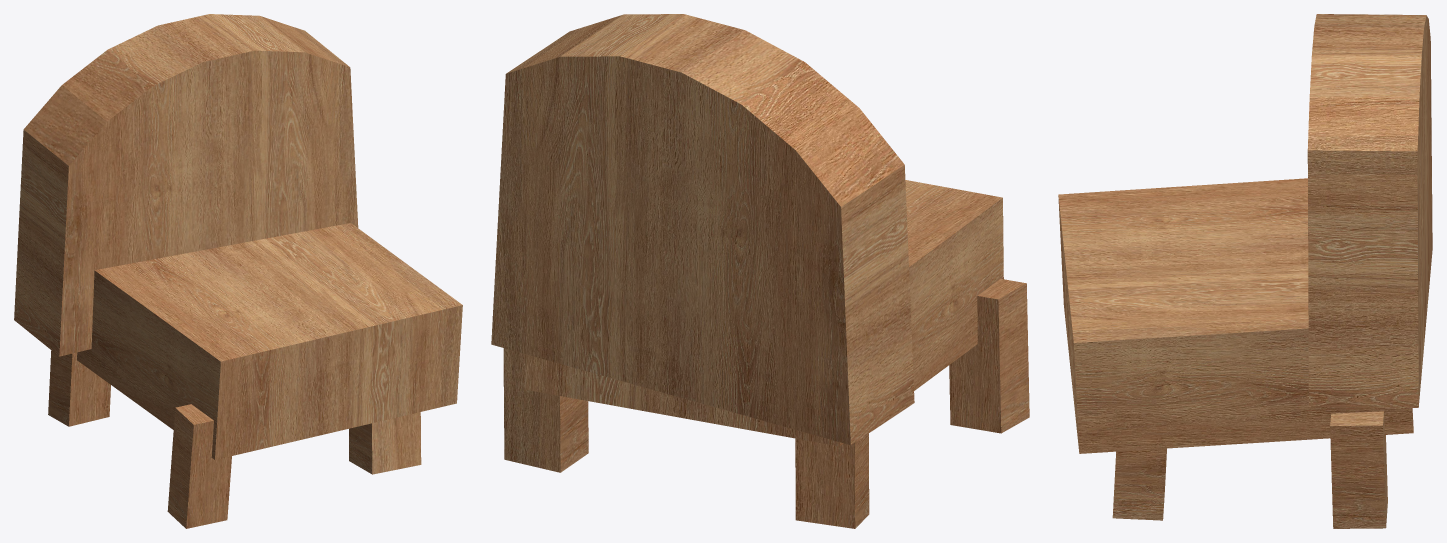
File: 43149_ours.glb
3 views of the same model, side by side, from view 1: azimuth 30°, elevation 25°; view 2: azimuth 150°, elevation 25°; view 3: azimuth 270°, elevation 25° (orthographic). The views are drawn at different scales.
Parts seen in each view (by area): view 1: ParentEmpty; view 2: ParentEmpty; view 3: ParentEmpty.
Boxes of the visible parts, box(x1,y1,x2,y2) form: ParentEmpty: box(14, 14, 462, 528); ParentEmpty: box(491, 14, 1029, 528); ParentEmpty: box(1058, 14, 1432, 528).
Bounding box in the file's own units: 0.857 × 1 × 0.8025.
Materials: 1 (1 with a texture image).
